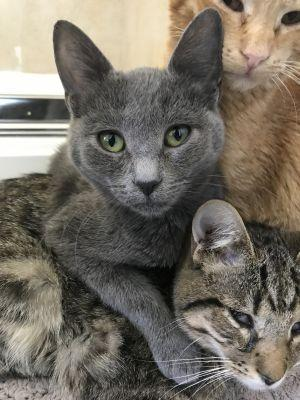rblue: (30, 1, 253, 237)
